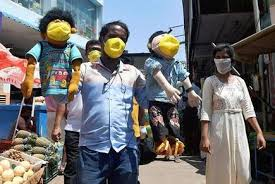mask: (42, 9, 73, 46), (100, 23, 130, 58), (149, 31, 180, 60), (212, 48, 233, 79), (82, 40, 104, 66)
